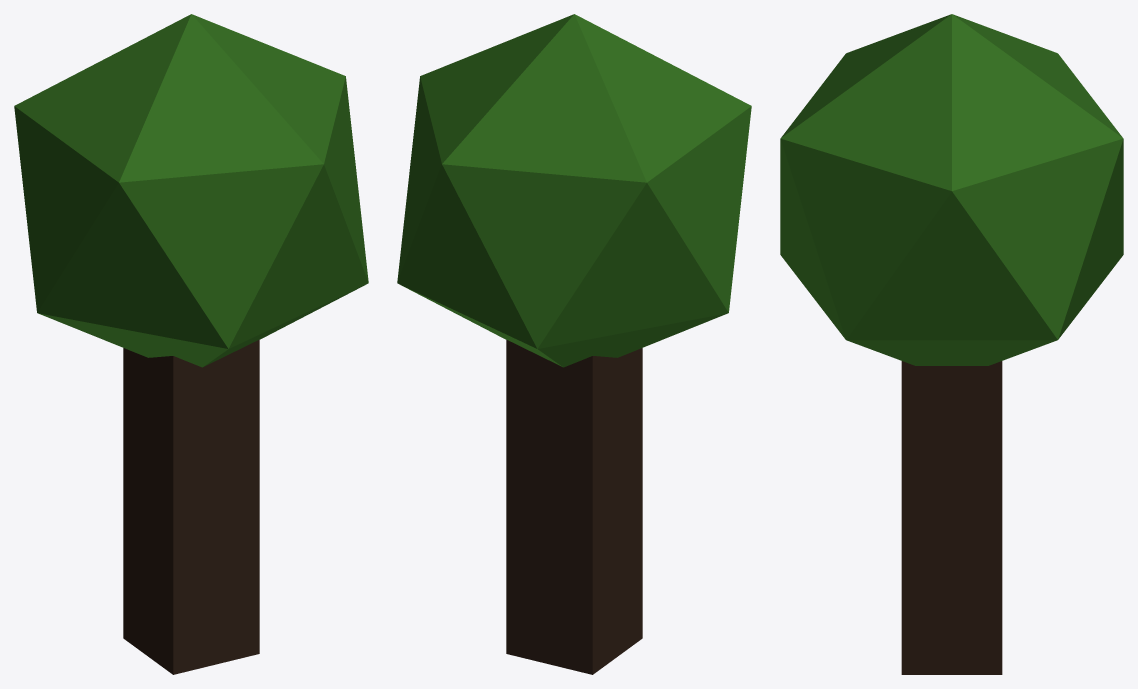
The model's file is Tree.fbx.
3 views of the same model, side by side, from view 1: azimuth 30°, elevation 25°; view 2: azimuth 150°, elevation 25°; view 3: azimuth 270°, elevation 25° (orthographic).
Parts seen in each view (by area): view 1: Tree; view 2: Tree; view 3: Tree.
Part boxes in pixels (bbox=[...]): Tree: bbox=[14, 14, 368, 674]; Tree: bbox=[397, 14, 751, 674]; Tree: bbox=[780, 14, 1123, 674].
Bounding box in the file's own units: 3.58 × 7 × 3.4.
